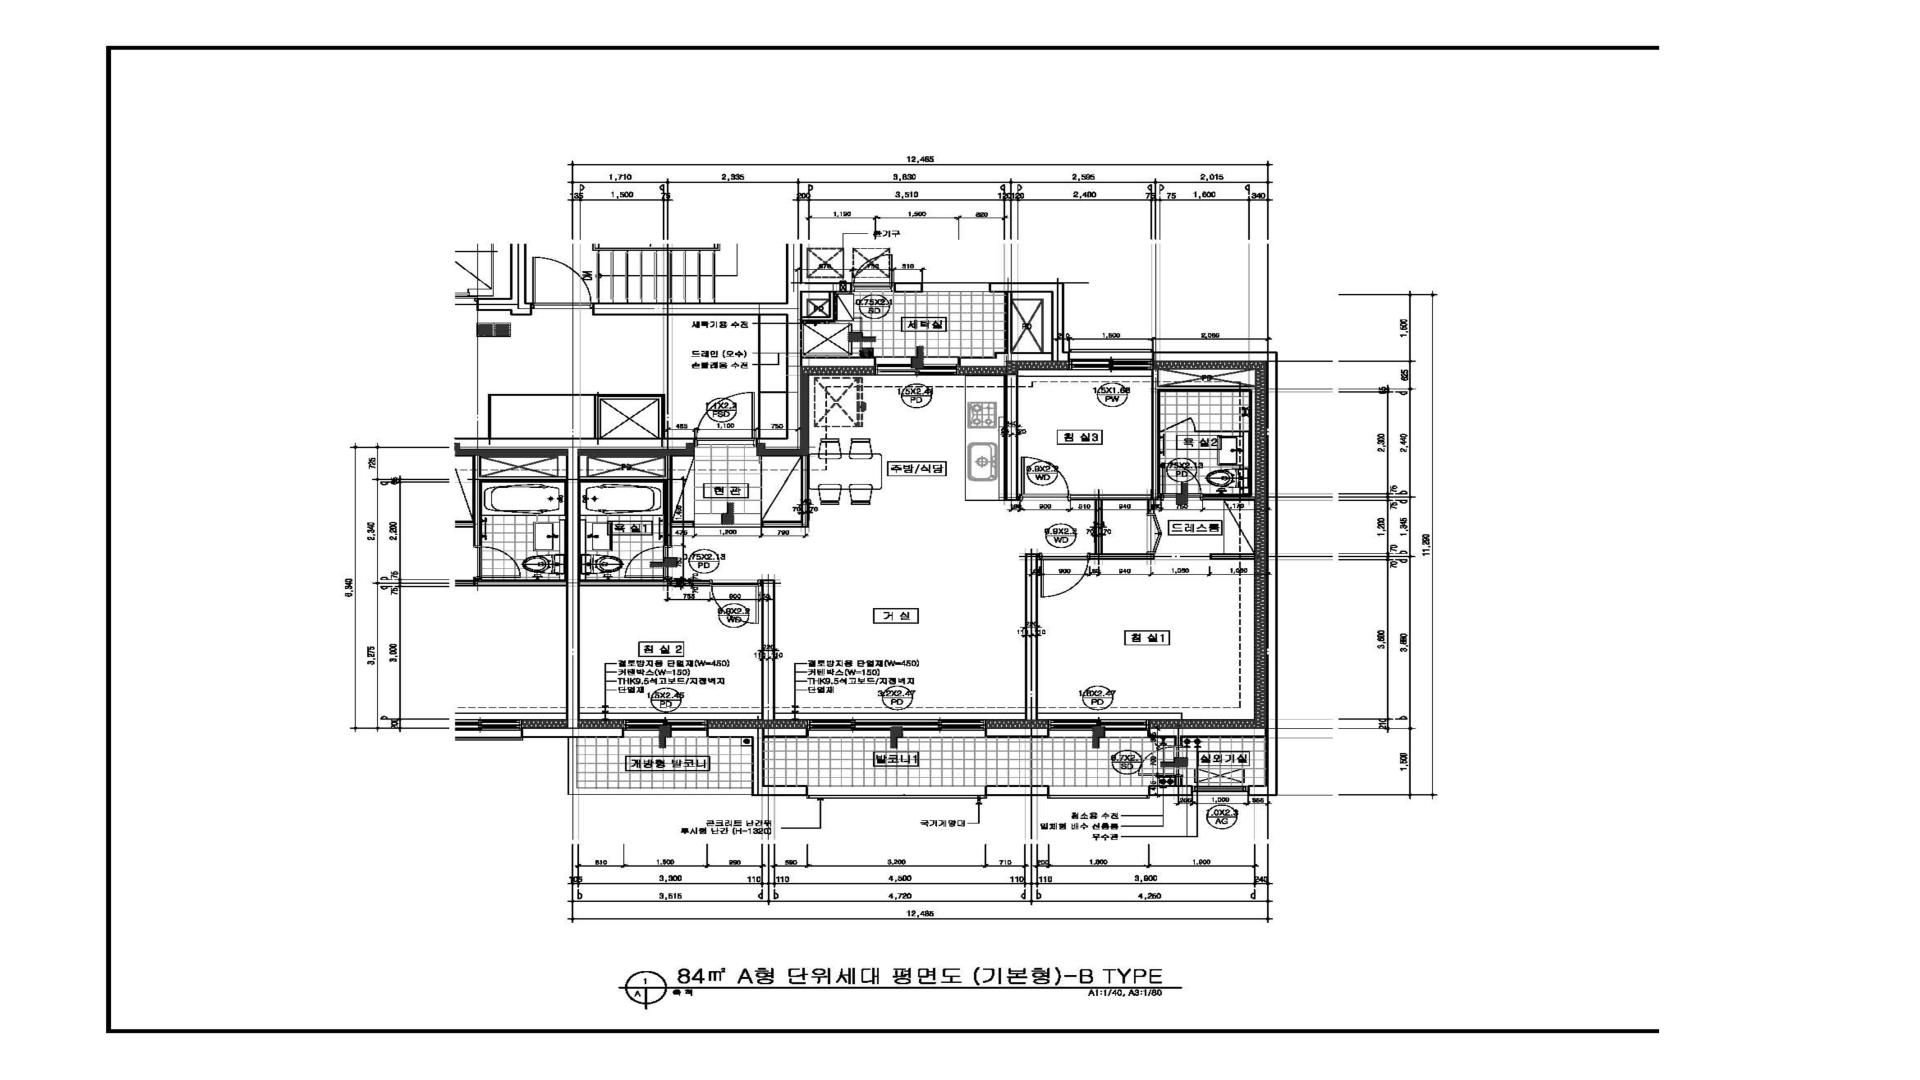door: (695, 392, 756, 447), (531, 257, 592, 309), (1038, 553, 1091, 597), (1018, 458, 1071, 501), (711, 580, 762, 624), (625, 545, 673, 579), (853, 255, 894, 293), (1160, 463, 1203, 500), (1138, 745, 1182, 777), (1164, 417, 1201, 433)
wall: (454, 438, 695, 738), (1154, 351, 1278, 796), (592, 282, 853, 450), (1071, 371, 1255, 501), (580, 455, 696, 545), (959, 293, 1051, 368), (708, 728, 807, 796), (989, 282, 1069, 361), (477, 244, 533, 315), (761, 456, 808, 527), (593, 394, 666, 438), (1025, 553, 1038, 720), (761, 579, 775, 720), (1149, 728, 1265, 745), (1004, 375, 1018, 501), (580, 579, 709, 587), (802, 293, 835, 320), (802, 356, 876, 367), (986, 785, 1048, 796), (986, 728, 1048, 738), (1150, 785, 1192, 796), (765, 728, 807, 738), (1095, 500, 1102, 554), (1209, 553, 1254, 560), (1091, 554, 1155, 559), (894, 282, 923, 293), (1201, 430, 1254, 433), (1147, 500, 1154, 514), (1175, 777, 1182, 785)
window: (807, 719, 986, 738), (807, 786, 986, 799), (1048, 719, 1149, 738), (624, 719, 708, 737), (1069, 352, 1154, 371), (876, 357, 959, 376), (1048, 786, 1150, 799), (923, 282, 989, 293), (1192, 785, 1249, 796)
